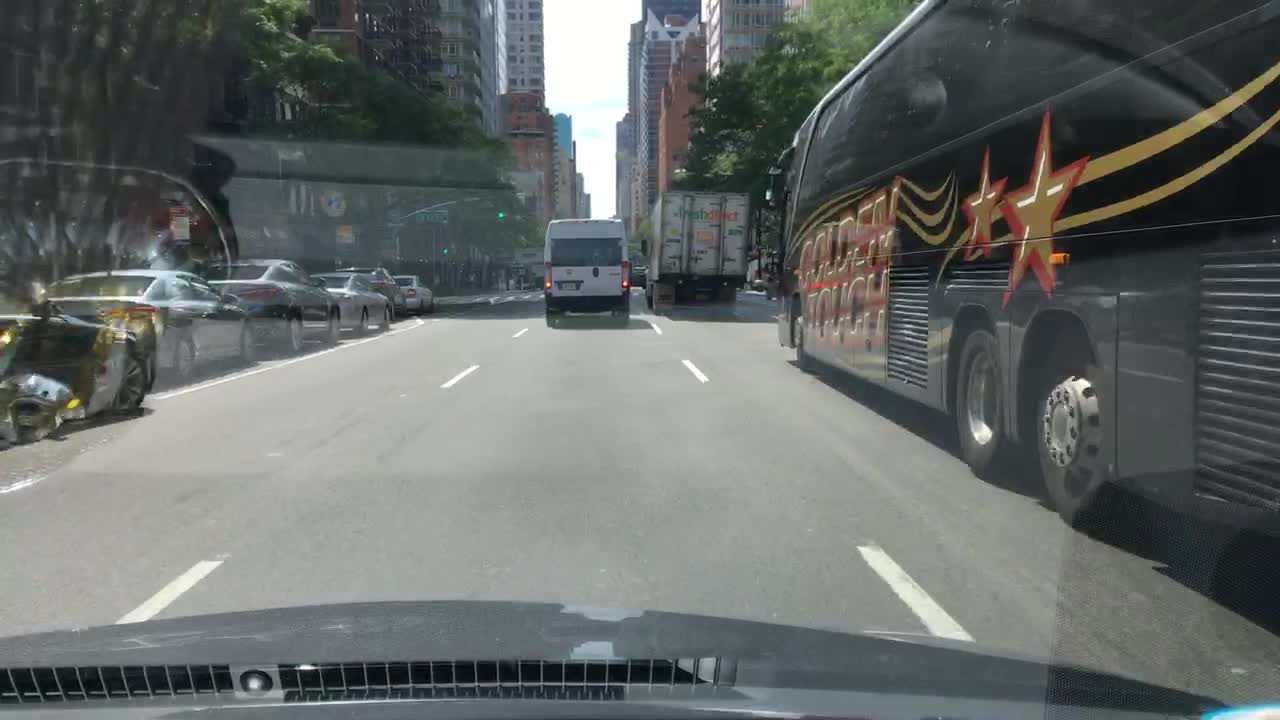bus: (771, 1, 1277, 547)
car: (0, 250, 152, 436), (38, 270, 255, 383), (177, 259, 341, 356), (546, 219, 631, 331), (311, 273, 390, 336), (343, 268, 408, 319), (391, 274, 434, 314), (751, 265, 777, 291), (628, 250, 646, 286), (530, 274, 546, 290), (516, 272, 532, 286)
traffic light: (496, 210, 506, 220), (441, 247, 449, 257)
traffic sign: (169, 207, 189, 238), (321, 193, 344, 217), (408, 212, 448, 224), (336, 227, 353, 244)
truck: (645, 192, 746, 314)
